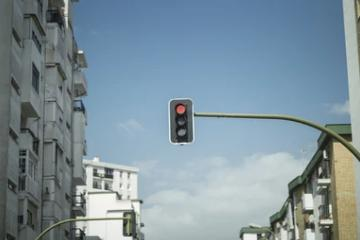red_light: (168, 98, 194, 144)
